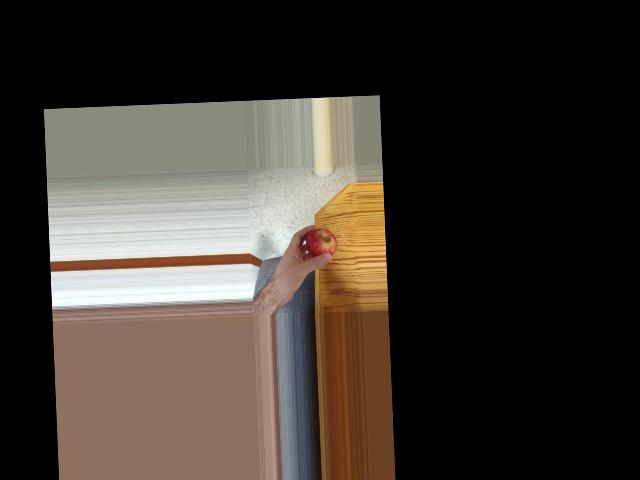apple: (305, 226, 338, 262)
